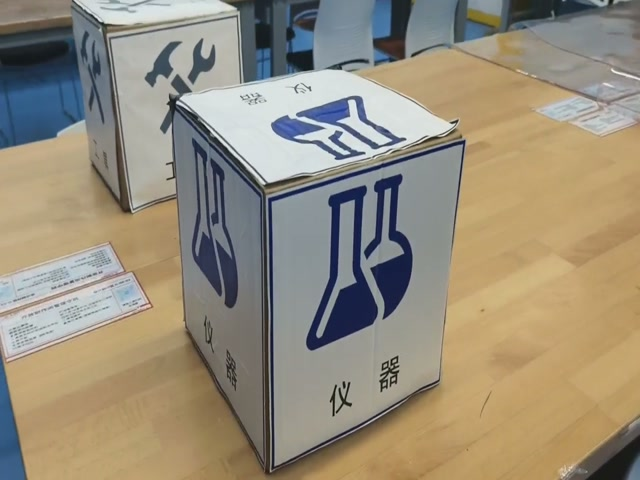Cube_ins: (173, 70, 460, 197)
